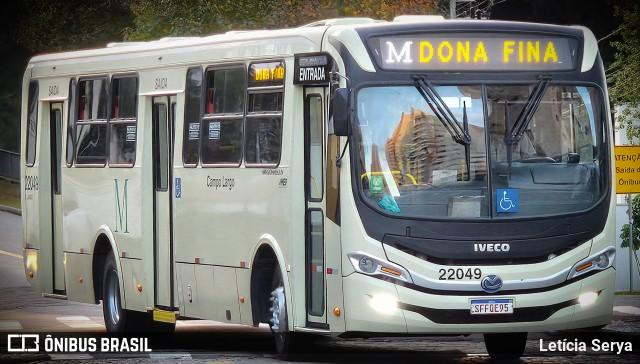DONA FINA: (416, 37, 560, 69)
